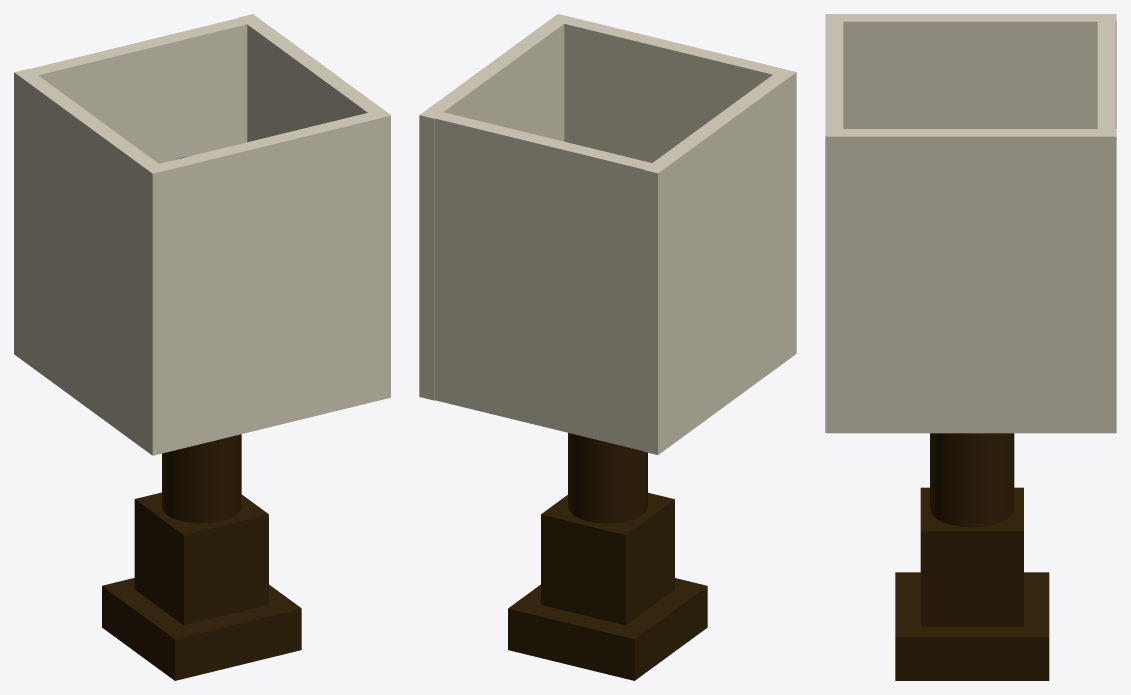
Rendered from lamp.obj.
The picture shows the model from 3 angles, left to right: view 1: azimuth 30°, elevation 25°; view 2: azimuth 150°, elevation 25°; view 3: azimuth 270°, elevation 25°; orthographic projection. The views are drawn at different scales.
Visible parts, largest first — view 1: Box4, Box2, Box5, Box1, Box, Box3, Cylinder; view 2: Box5, Box2, Box4, Box3, Box1, Box, Cylinder; view 3: Box3, Box2, Box1, Box, Cylinder, Box4, Box5.
Part boxes in pixels (x1,y1,x2,y2): Box4: (144,109,390,455); Box2: (14,68,165,449); Box5: (14,14,260,360); Box1: (134,492,268,625); Box: (102,578,301,680); Box3: (238,14,390,141); Cylinder: (162,156,241,523); Box5: (424,109,667,453); Box2: (643,69,787,454); Box4: (552,14,796,359); Box3: (419,14,570,400); Box1: (541,492,674,625); Box: (508,578,707,680); Cylinder: (568,433,647,523); Box3: (827,129,1116,433); Box2: (827,14,1116,128); Box1: (920,487,1023,626); Box: (895,572,1049,680); Cylinder: (930,433,1014,527); Box4: (825,14,843,432); Box5: (1097,14,1115,128).
Bounding box in the file's own units: 0.5067 × 1.1 × 0.5093.
